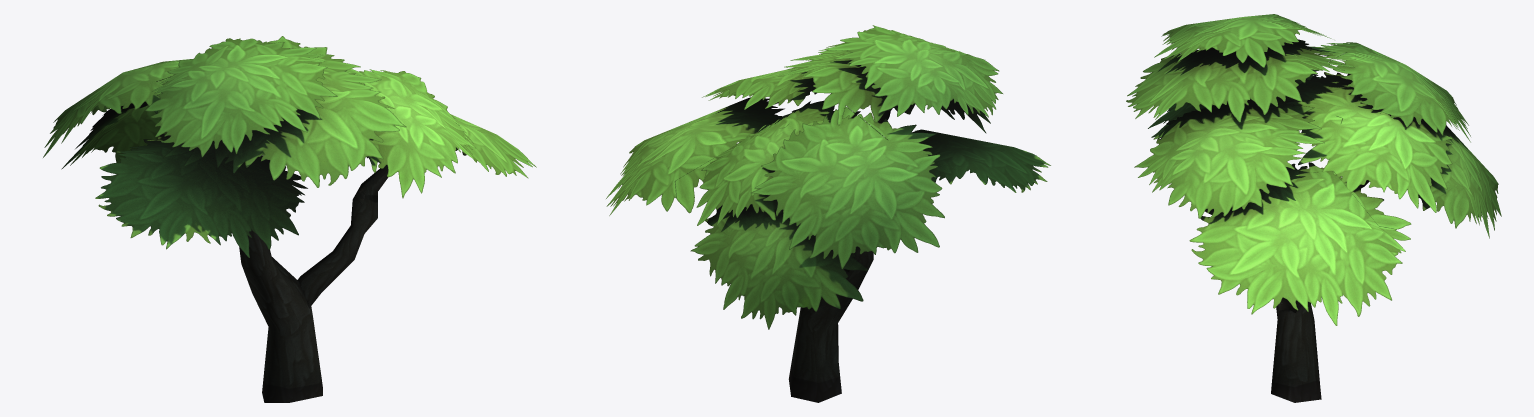
File: Mod_WM_Tree_Pine_06.fbx
3 views of the same model, side by side, from view 1: azimuth 30°, elevation 25°; view 2: azimuth 150°, elevation 25°; view 3: azimuth 270°, elevation 25° (orthographic). The views are drawn at different scales.
Parts seen in each view (by area): view 1: polySurface166; view 2: polySurface166; view 3: polySurface166.
Part boxes in pixels (x1,y1,x2,y2): polySurface166: (43, 36, 536, 402); polySurface166: (606, 25, 1050, 402); polySurface166: (1126, 14, 1501, 402).
Bounding box in the file's own units: 157 × 118 × 130.
Materials: 1 (1 with a texture image).
